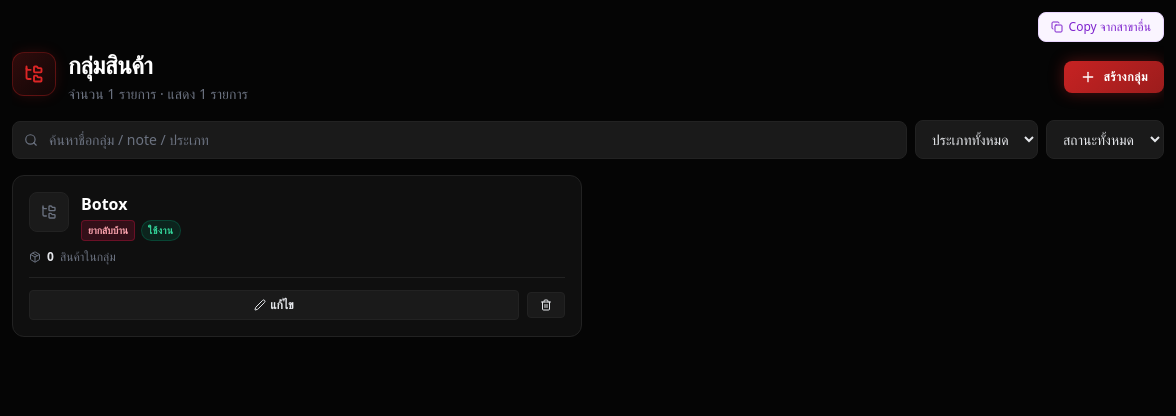
Test: ProductGroupsTab — PU1..PU10 › PU8: delete error surfaces in error banner
Expected: the heading "Botox" is shown, [81,193,127,215]
Click the button named "ลบกลุ่ม Botox" at (546, 305), box [527,292,565,318]
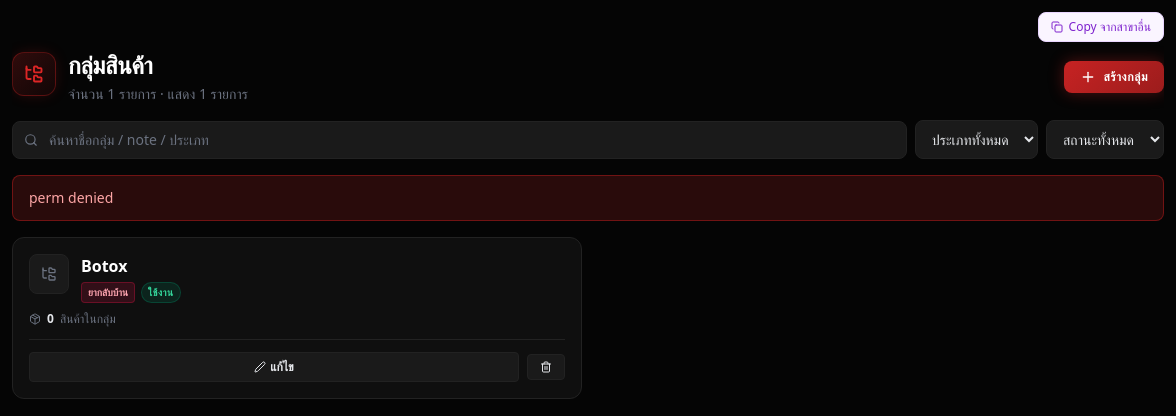
Expected: the text "perm denied" is shown, [12,175,1164,221]
